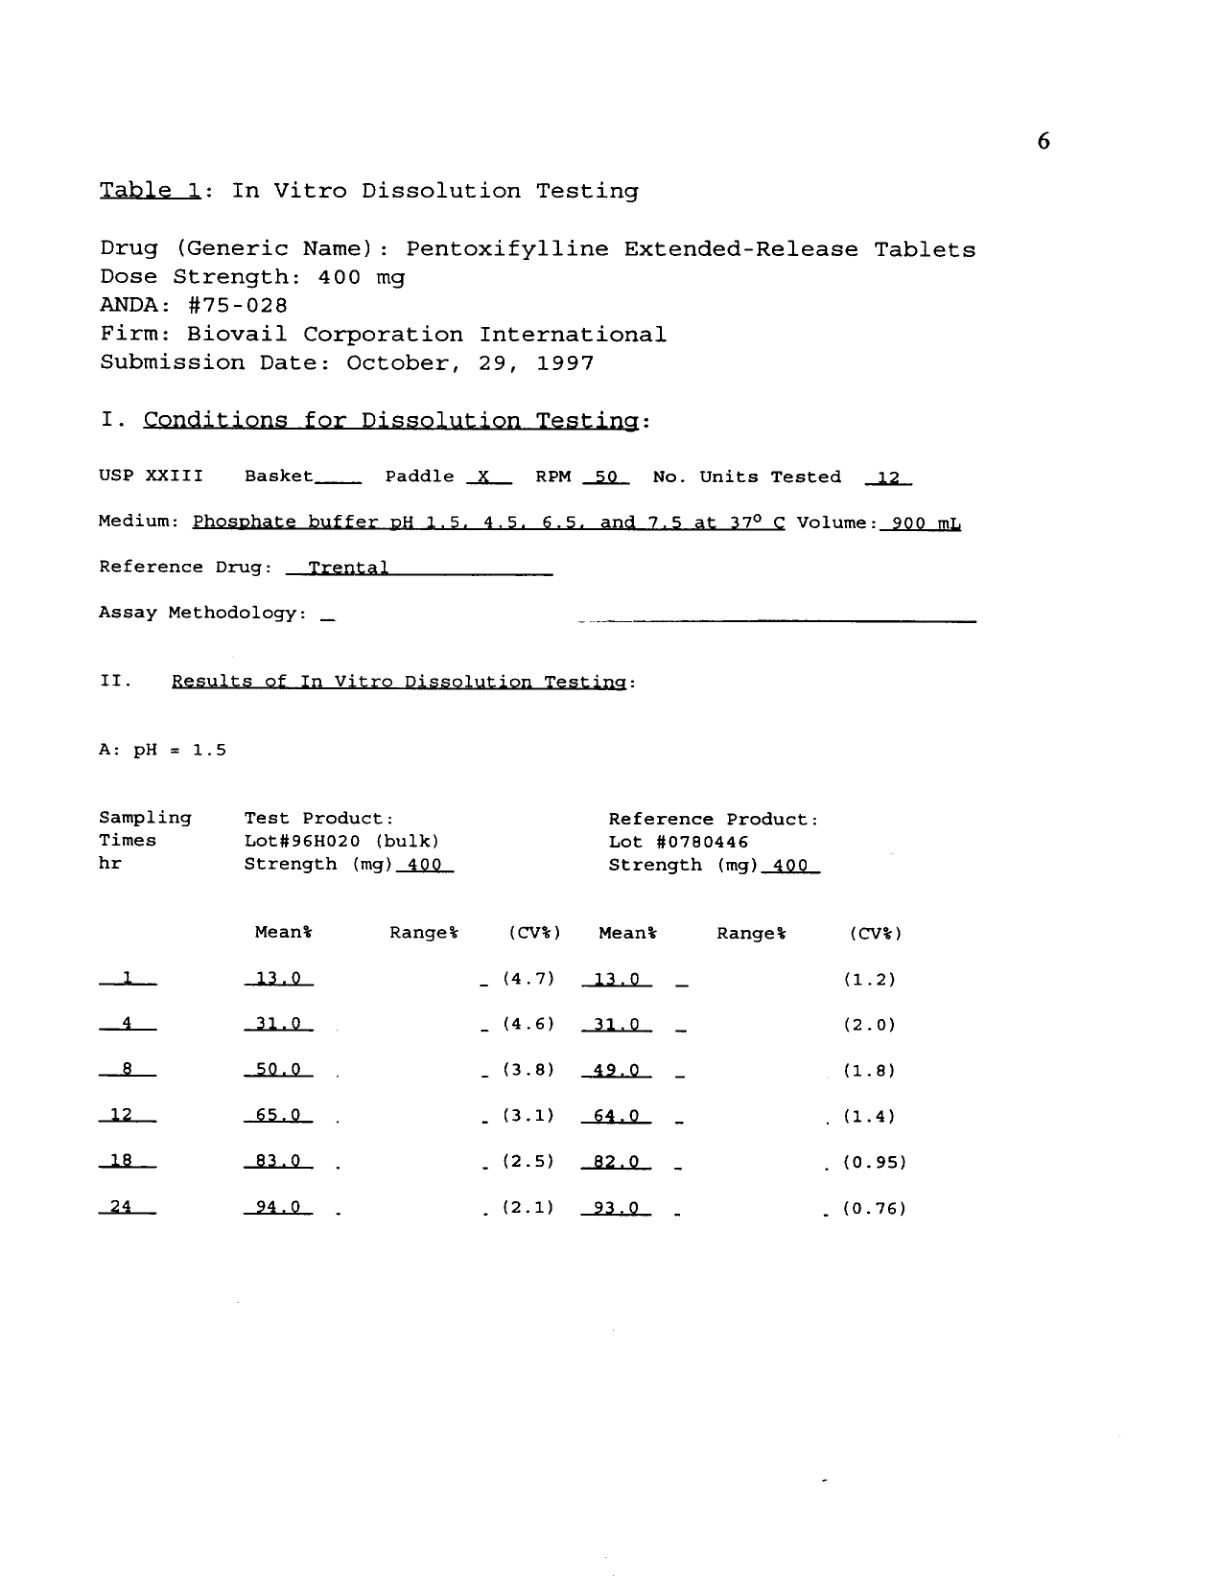nolines: (92, 805, 912, 1222)
